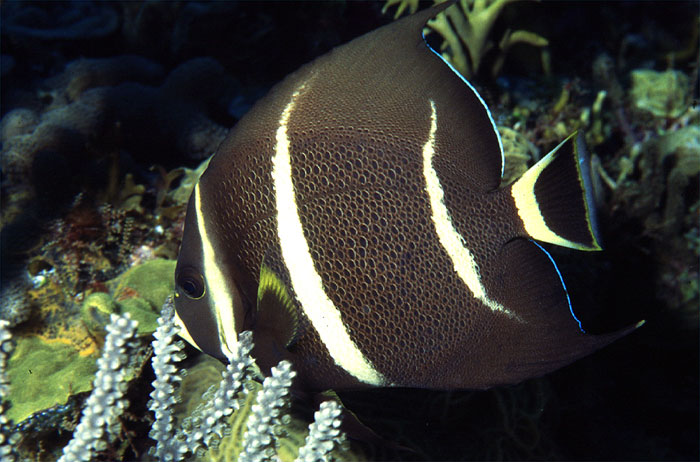Pomacanthus_paru: (163, 11, 660, 416)
